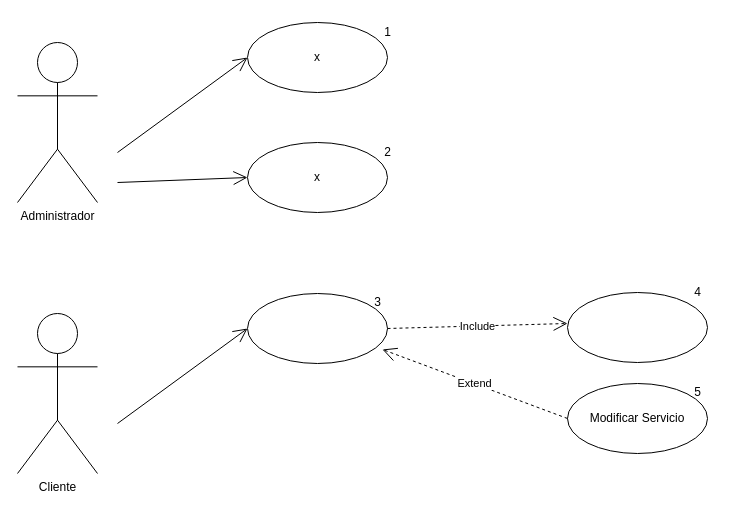
Image size: 730x511. Some labels were removed from this diagram. Each missing label, with the box of its shape:
Registrar Servicio: (566, 292, 708, 362)
Solicitar Servicio: (246, 292, 388, 364)
